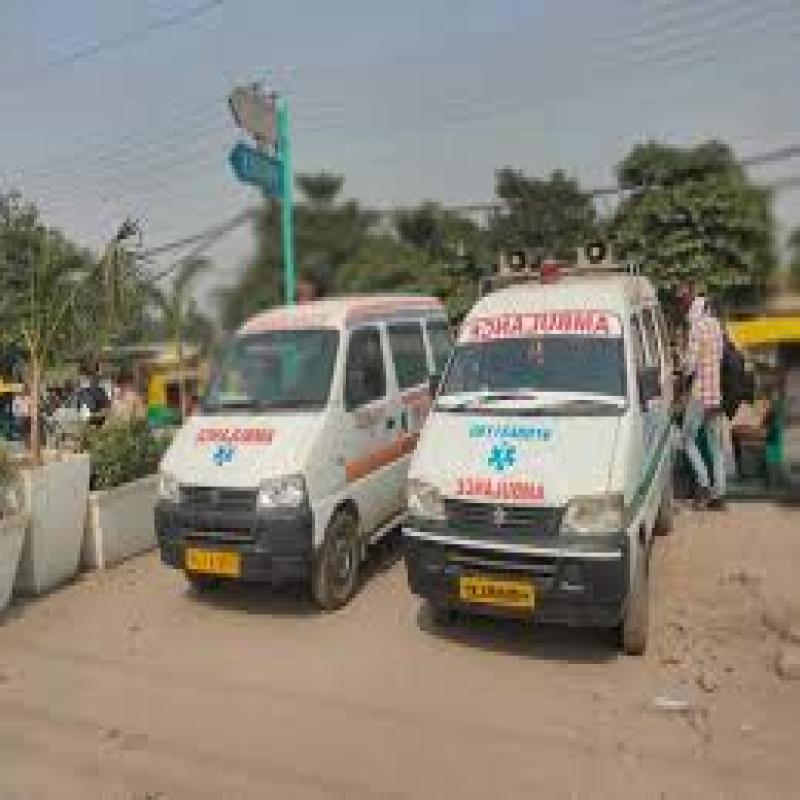ambulance: (454, 310, 678, 650), (134, 339, 355, 594)
